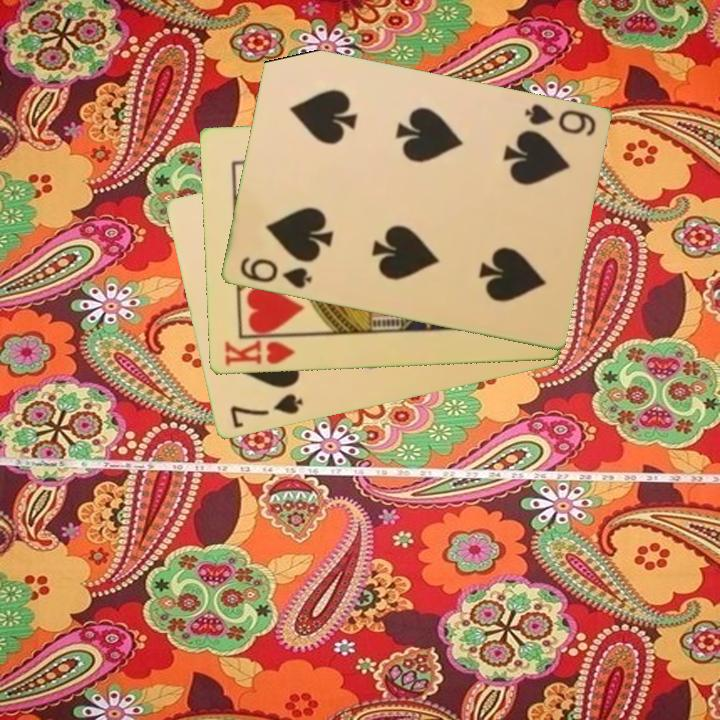6s: (236, 253, 315, 292), (520, 101, 598, 140)
7s: (226, 390, 306, 432)
Kh: (220, 333, 302, 369)
